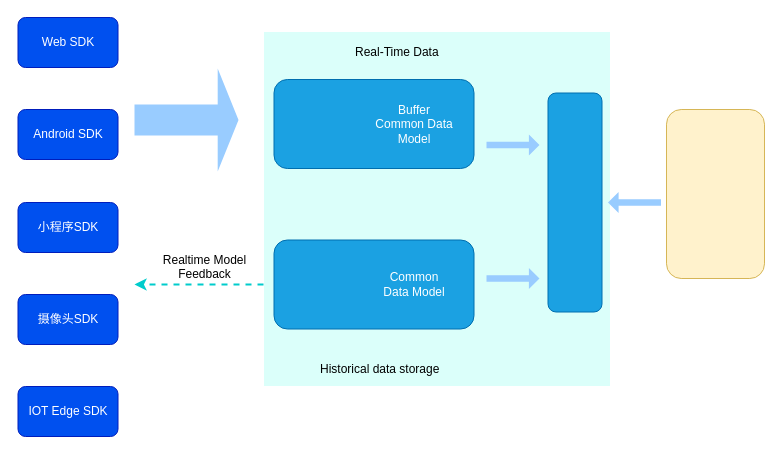
The diagram is 782 pixels wide and 454 high, and some of its shapes have lost their labels. The box of each missing label's shape, as (x1, y1, x2, y2) in pixels:
Query Engine: (547, 92, 602, 312)
QueryUser: (666, 108, 764, 278)
Standard Format: (134, 68, 238, 171)
